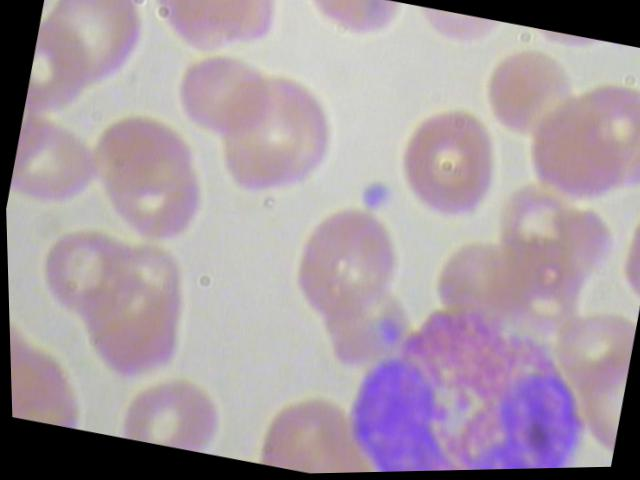Platelets: (353, 177, 397, 217)
Red Blood Cells: (198, 60, 349, 209), (266, 193, 417, 342), (382, 101, 509, 230), (104, 364, 247, 461), (23, 217, 139, 327), (467, 46, 583, 156), (81, 101, 196, 211), (164, 41, 279, 151)
White Blood Cells: (327, 287, 608, 473)
